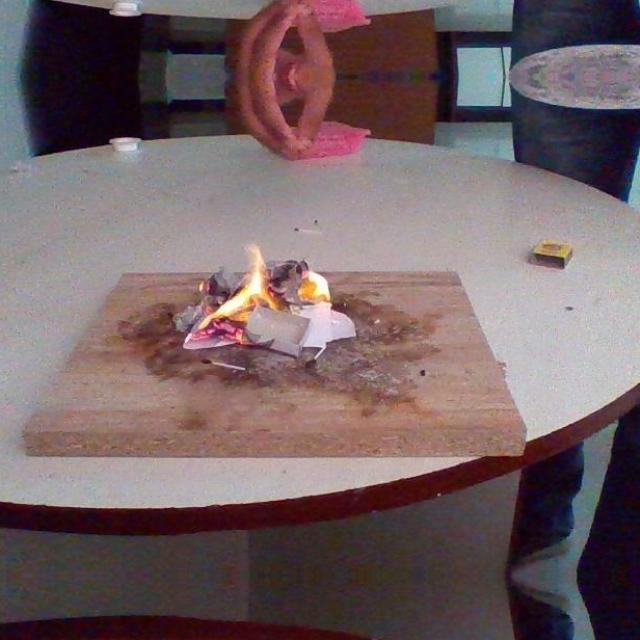smoke: (186, 244, 279, 338), (296, 268, 332, 306)
